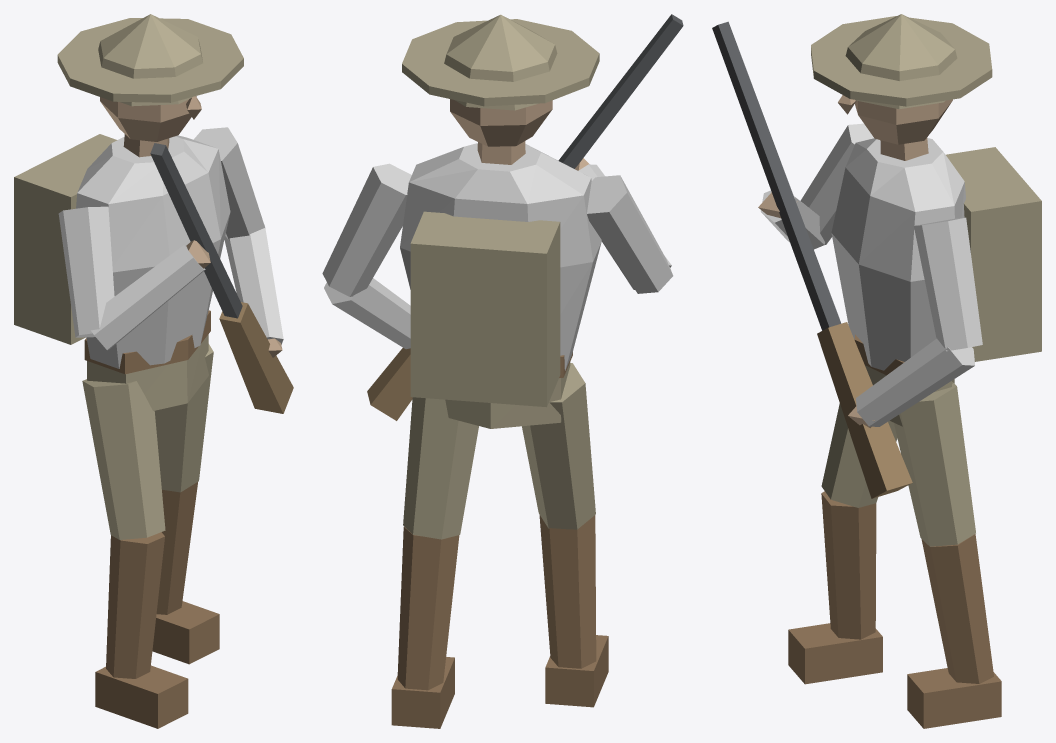
File: pracinha.glb
The picture shows the model from 3 angles, left to right: view 1: azimuth 30°, elevation 25°; view 2: azimuth 150°, elevation 25°; view 3: azimuth 270°, elevation 25°; orthographic projection. The views are drawn at different scales.
Parts seen in each view (by area): view 1: LOD0; view 2: LOD0; view 3: LOD0.
Part boxes in pixels (bbox=[...]): LOD0: bbox=[14, 14, 293, 728]; LOD0: bbox=[322, 14, 683, 728]; LOD0: bbox=[712, 14, 1041, 728].
Size of what is drawn, in the model's own units: 0.4042 by 0.986 by 0.4366.
